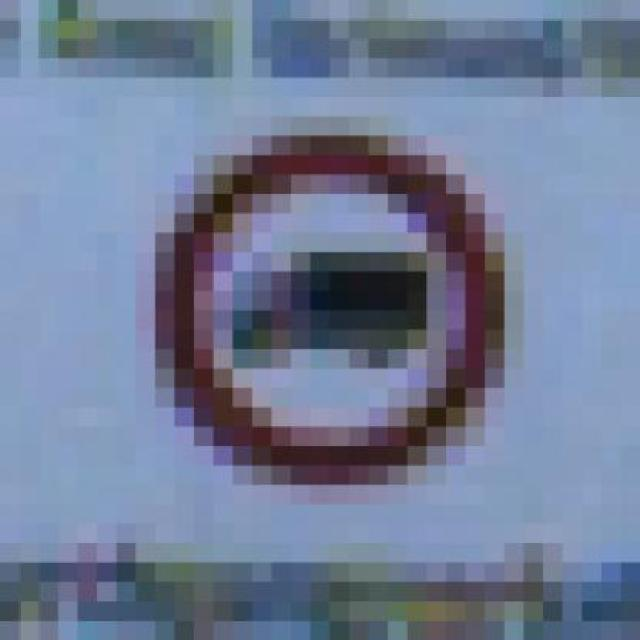Truck traffic is prohibited: (74, 109, 578, 516)
